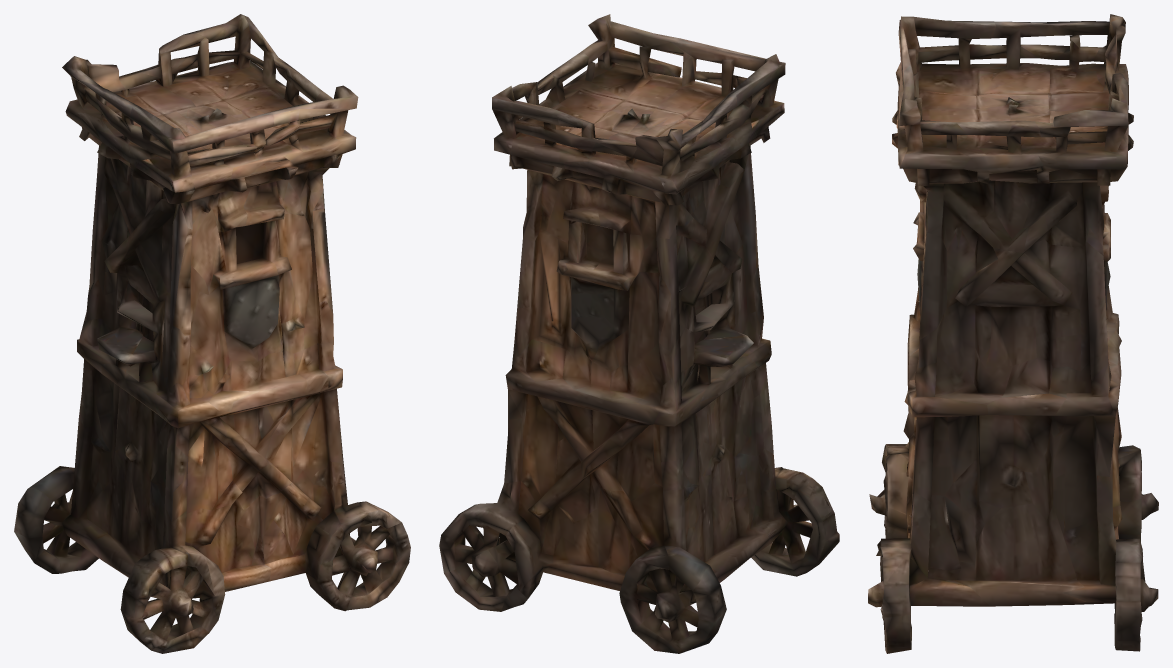
The model's file is siege_tower.glb.
The picture shows the model from 3 angles, left to right: view 1: azimuth 30°, elevation 25°; view 2: azimuth 150°, elevation 25°; view 3: azimuth 270°, elevation 25°; orthographic projection. The views are drawn at different scales.
Parts seen in each view (by area): view 1: tripo_node_a92dbed5-7784-416d-ba5c-ef929a55a62b; view 2: tripo_node_a92dbed5-7784-416d-ba5c-ef929a55a62b; view 3: tripo_node_a92dbed5-7784-416d-ba5c-ef929a55a62b.
Boxes of the visible parts, left/top/right/bottom form: tripo_node_a92dbed5-7784-416d-ba5c-ef929a55a62b: left=14, top=14, right=410, bottom=653; tripo_node_a92dbed5-7784-416d-ba5c-ef929a55a62b: left=439, top=14, right=839, bottom=653; tripo_node_a92dbed5-7784-416d-ba5c-ef929a55a62b: left=868, top=14, right=1158, bottom=653.
Size of the model in its own units: 0.5666 by 0.9986 by 0.4844.
1 material, 1 textured.
